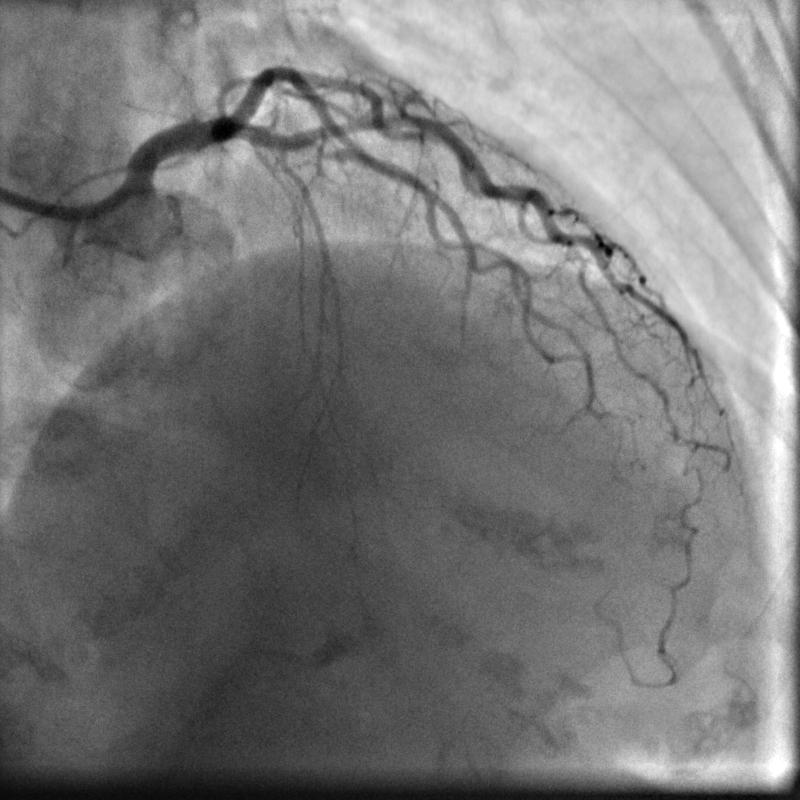Stenosis: (310, 141, 344, 163)
